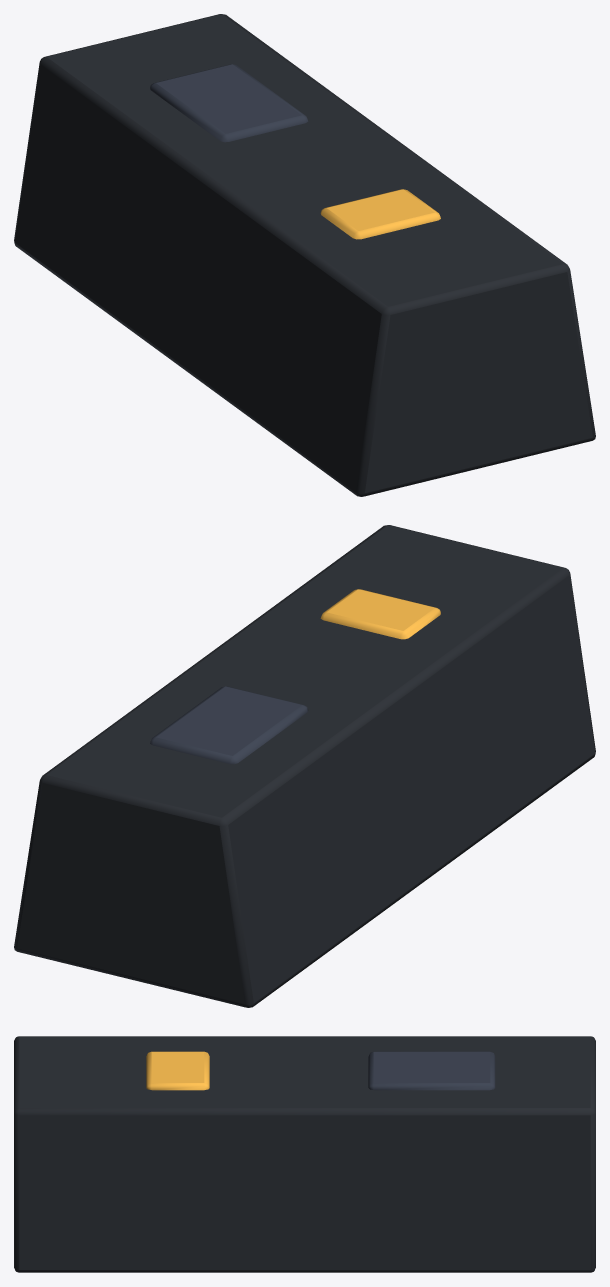
File: ware_graphen.fbx
3 views of the same model, one above another, from view 1: azimuth 30°, elevation 25°; view 2: azimuth 150°, elevation 25°; view 3: azimuth 270°, elevation 25° (orthographic). The views are drawn at different scales.
Parts seen in each view (by area): view 1: ware_graphen_Koerper; view 2: ware_graphen_Koerper; view 3: ware_graphen_Koerper.
Part boxes in pixels (<box>): ware_graphen_Koerper: <box>14,14,595,496</box>; ware_graphen_Koerper: <box>14,525,595,1007</box>; ware_graphen_Koerper: <box>14,1036,595,1272</box>.
Bounding box in the file's own units: 0.2185 × 0.165 × 0.55.
